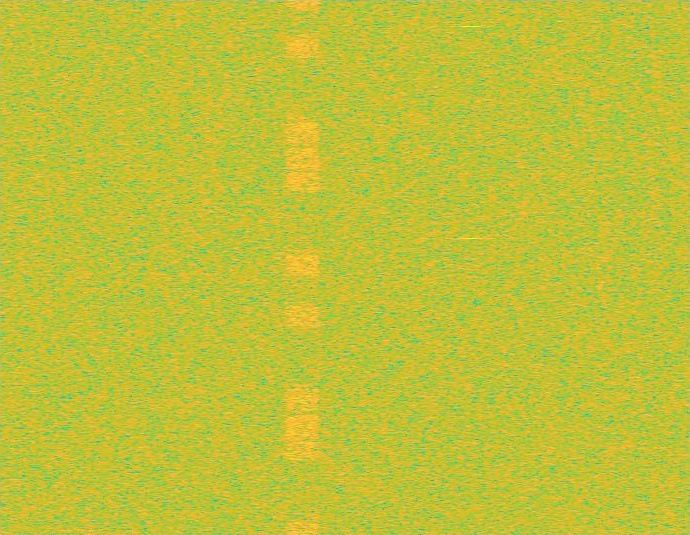LTE: (285, 0, 320, 534)
Radar: (464, 0, 478, 534)
